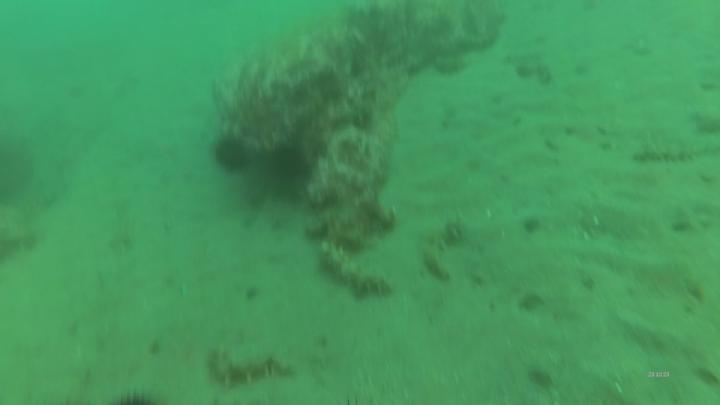echinus: (210, 130, 254, 176), (270, 137, 314, 180)
holothurian: (318, 233, 393, 303), (204, 343, 294, 390), (423, 221, 467, 281)
